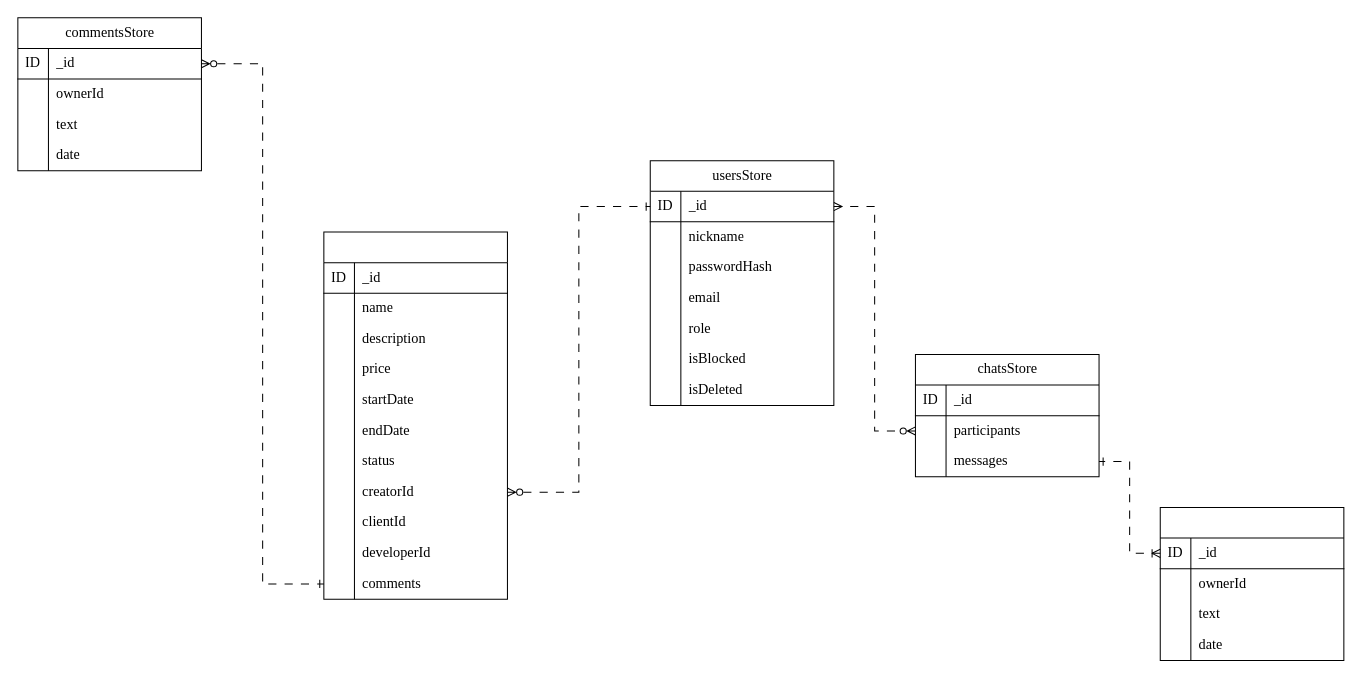
The diagram is 1362 pixels wide and 678 high, and some of its shapes have lost their labels. The box of each missing label's shape, as (x1, y1, x2, y2) in pixels:
messagesStore: (1159, 506, 1344, 660)
tasksStore: (323, 231, 507, 599)
